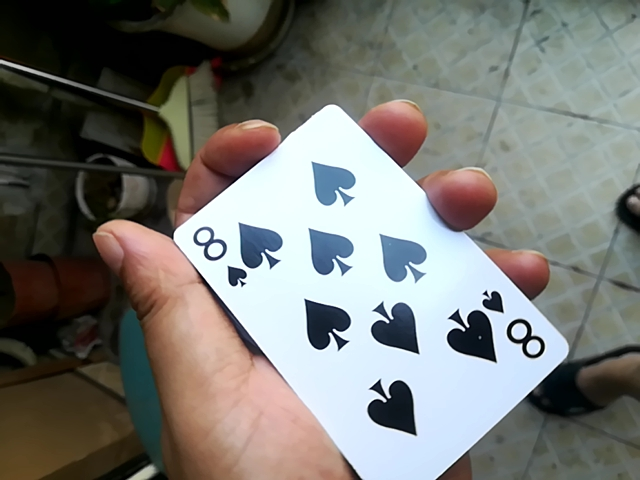ht 8: (151, 101, 547, 480)
